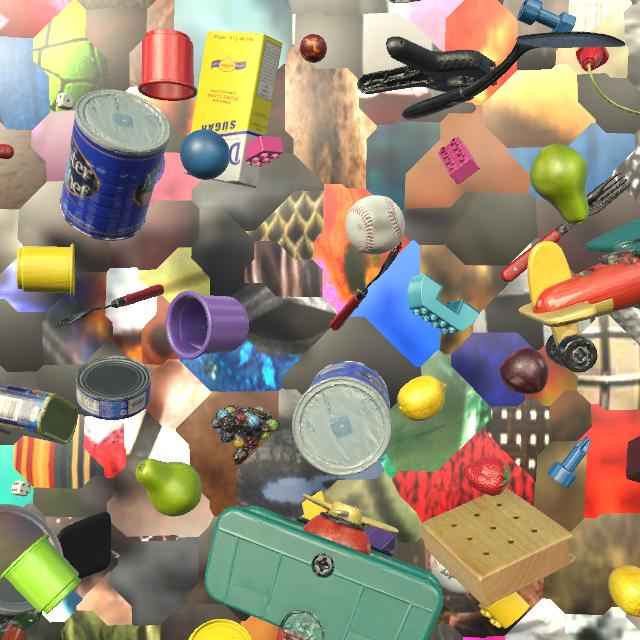ycb_002_master_chef_can: (59, 89, 171, 241), (292, 361, 392, 476), (389, 0, 421, 4)
ycb_004_sugar_box: (185, 31, 283, 188)
ycb_007_tuna_fish_can: (76, 356, 152, 420)
ycb_010_potted_meat_can: (0, 381, 78, 444)
ycb_012_strawberry: (464, 456, 510, 496)
ycb_014_lemon: (397, 375, 447, 421), (608, 565, 640, 617)
ycb_016_pear: (530, 143, 589, 225), (135, 458, 202, 516)
ycb_018_plum: (499, 347, 549, 394)
